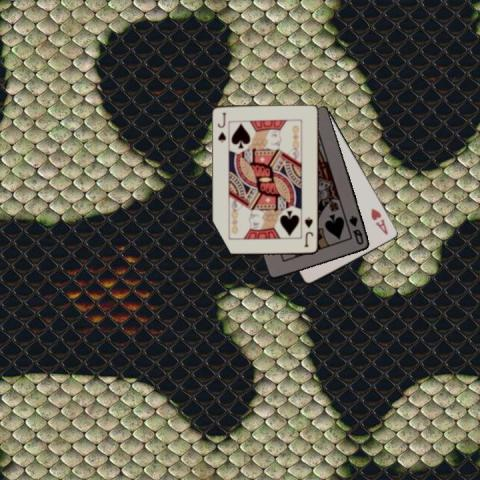Ah: (368, 205, 389, 236)
Js: (302, 214, 315, 248), (215, 110, 227, 144)
Qs: (346, 213, 365, 246)
